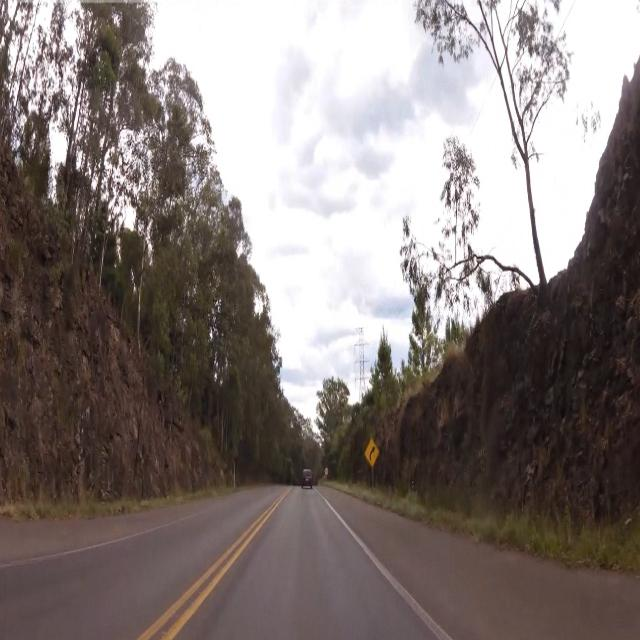A-2b: (366, 440, 380, 468)
